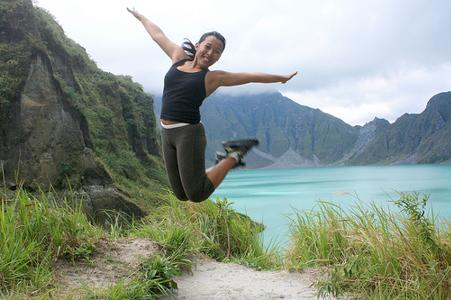person: (125, 5, 295, 201)
